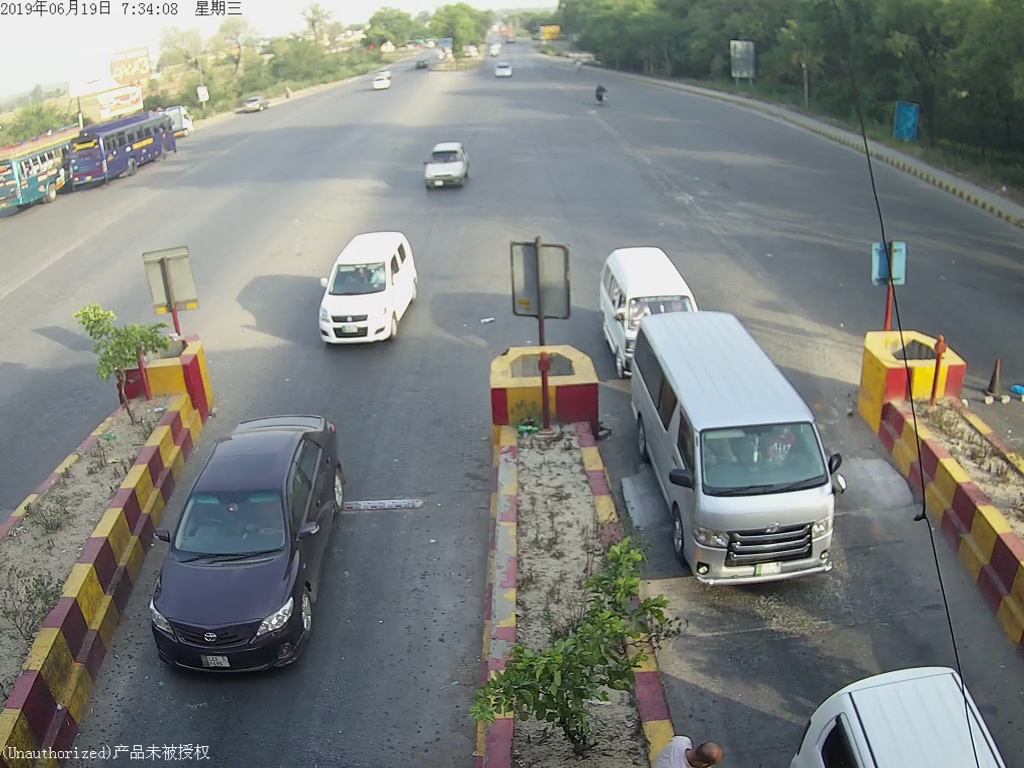Cat-1: (154, 417, 346, 669), (305, 225, 429, 363)
Cat-2: (627, 305, 856, 585)
